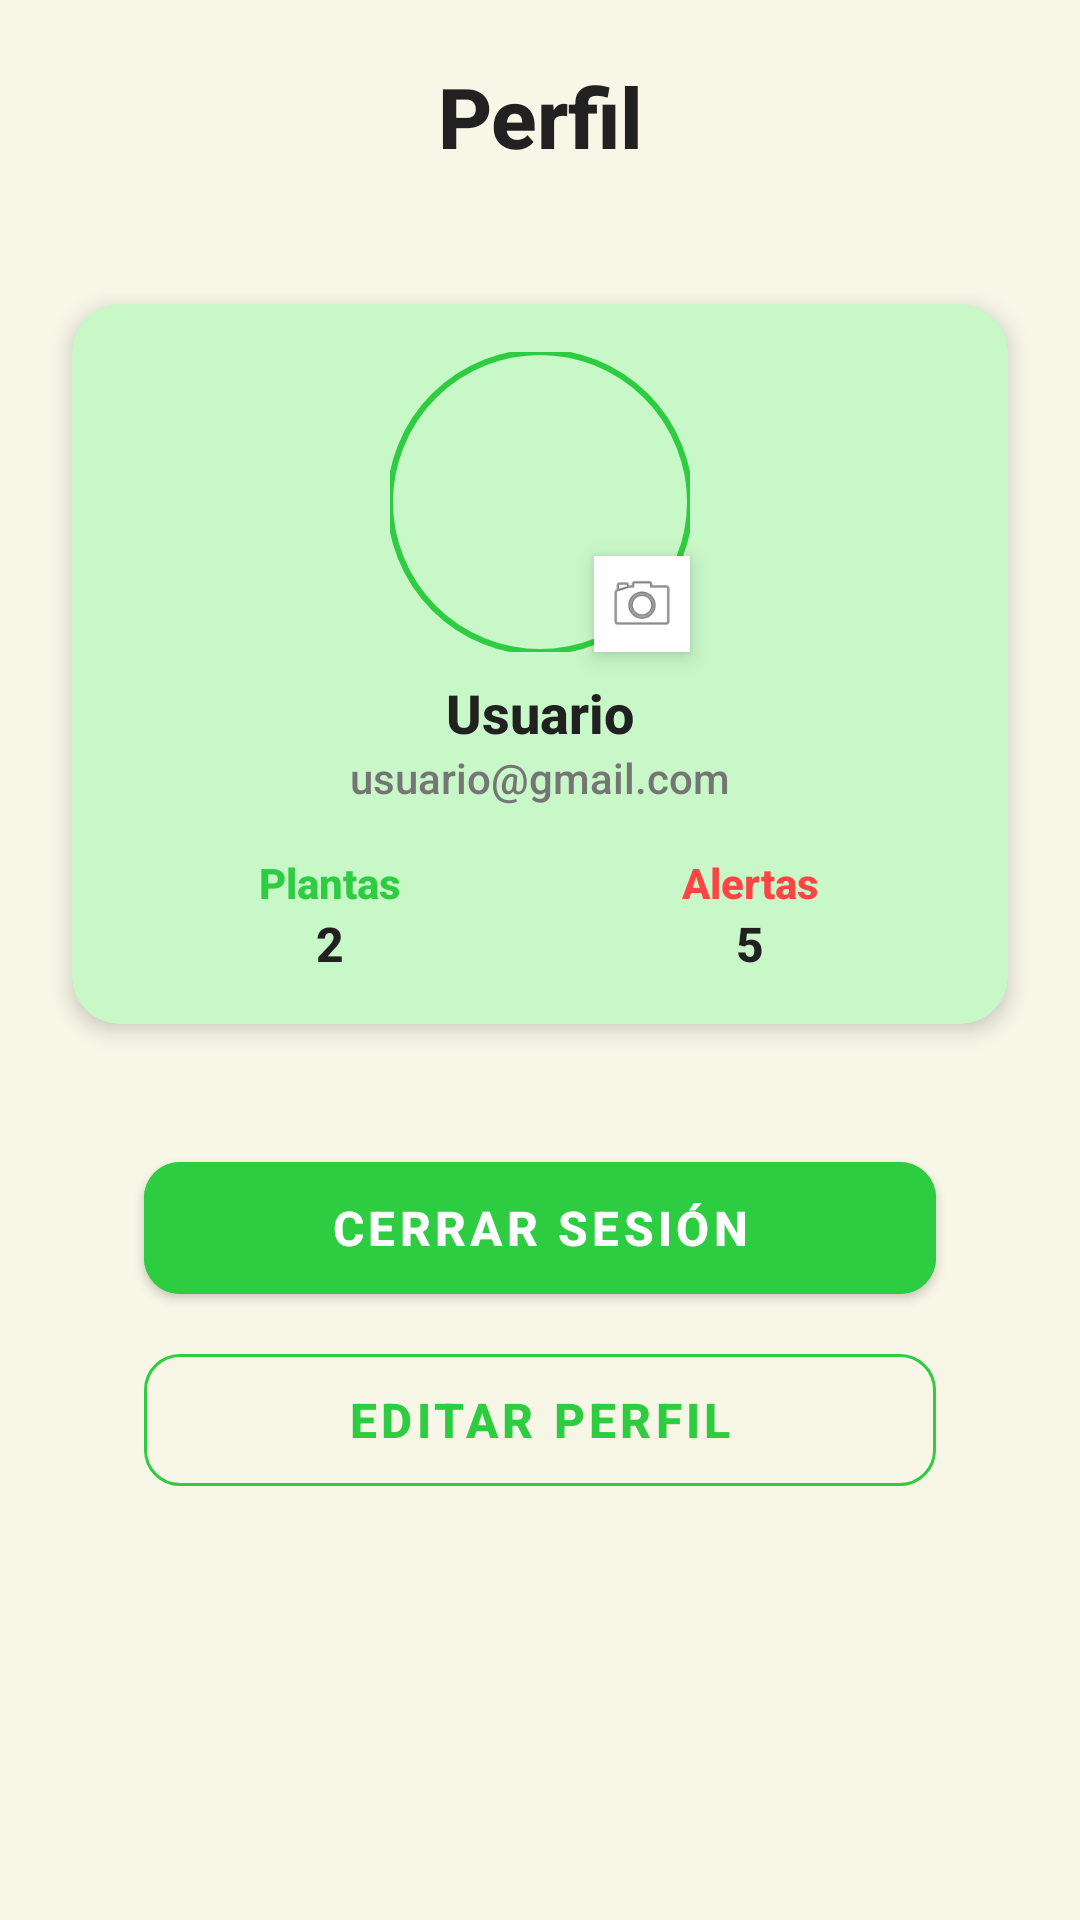

Icons on this 1080px x 1920px Android screen, each with its box as (x1, y1, x2, y2):
camera: (594, 556, 690, 652)
